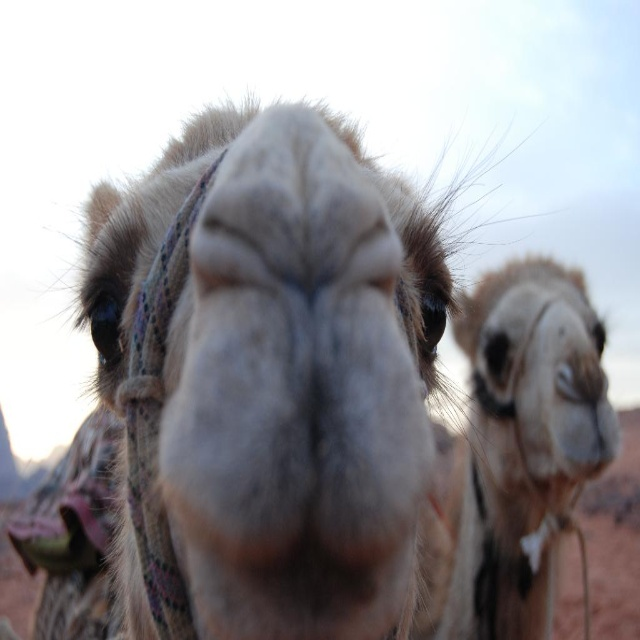Camel: (8, 83, 570, 640), (417, 248, 622, 640)
